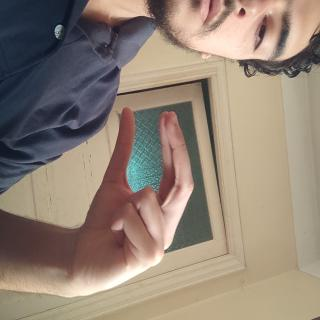DHELL: (74, 161, 228, 320)
